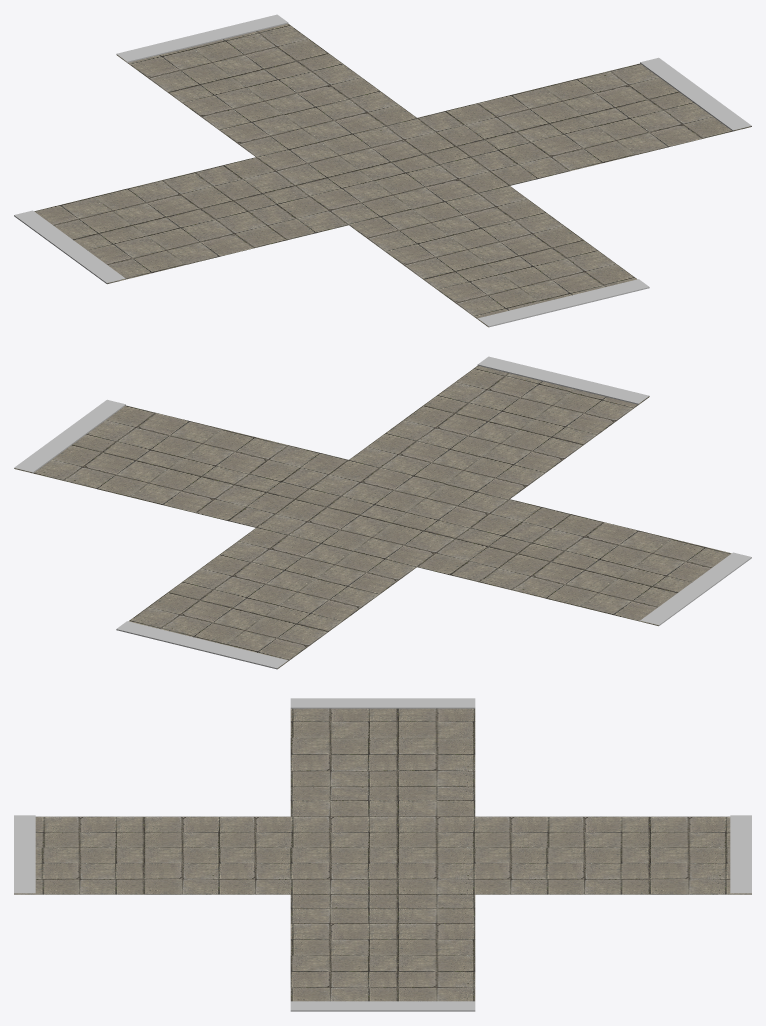
The model's file is dungeon_Tile_05_Wall_Additional_2.fbx.
3 views of the same model, one above another, from view 1: azimuth 30°, elevation 25°; view 2: azimuth 150°, elevation 25°; view 3: azimuth 270°, elevation 25° (orthographic).
Visible parts, largest first — view 1: dungeon_Tile_05_Wall_Additional_2; view 2: dungeon_Tile_05_Wall_Additional_2; view 3: dungeon_Tile_05_Wall_Additional_2.
Part boxes in pixels (x1,y1,x2,y2): dungeon_Tile_05_Wall_Additional_2: (14, 14, 751, 327); dungeon_Tile_05_Wall_Additional_2: (14, 356, 751, 669); dungeon_Tile_05_Wall_Additional_2: (14, 698, 751, 1011).
Size of the model in its own units: 120 by 0.2022 by 120.
